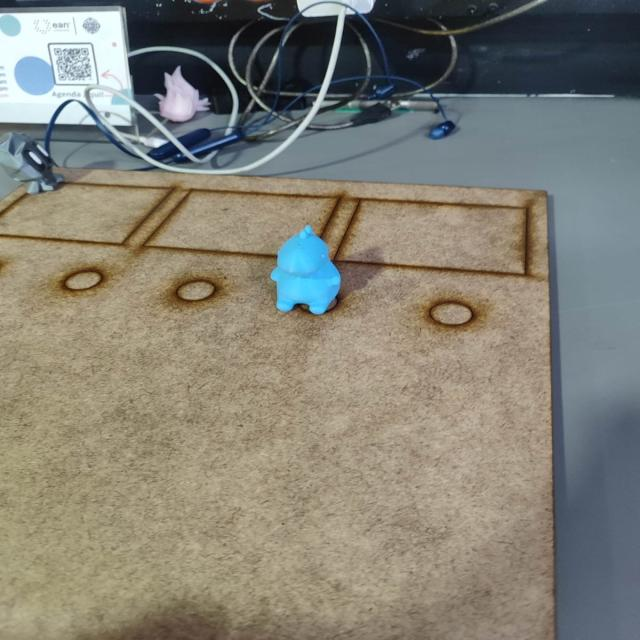DINO: (266, 223, 351, 316)
